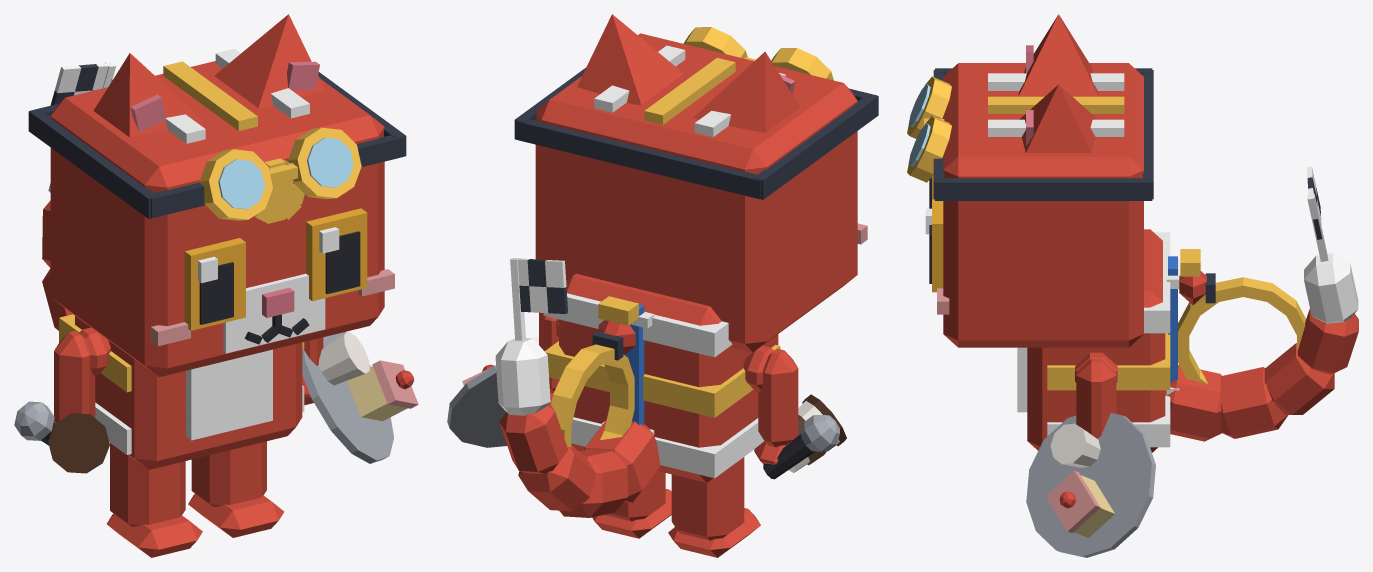
The model's file is CatCafe_Cat_Coaster_Work.glb.
3 renders of one model, left to right at view 1: azimuth 30°, elevation 25°; view 2: azimuth 150°, elevation 25°; view 3: azimuth 270°, elevation 25°, orthographic. The views are drawn at different scales.
Visible parts, largest first — view 1: CatCafe_Cat_Coaster_Work_Head, CatCafe_Cat_Coaster_Work_Body, CatCafe_Cat_Coaster_Work_Prop, CatCafe_Cat_Coaster_Work_Held_Waiter, CatCafe_Cat_Coaster_Work_LegB2, CatCafe_Cat_Coaster_Work_LegB1, CatCafe_Cat_Coaster_Work_EarL, CatCafe_Cat_Coaster_Work_Eye2, CatCafe_Cat_Coaster_Work_Eye1, CatCafe_Cat_Coaster_Work_EarR, CatCafe_Cat_Coaster_Work_LegF2, CatCafe_Cat_Coaster_Work_Held_Barista (+4 smaller); view 2: CatCafe_Cat_Coaster_Work_Head, CatCafe_Cat_Coaster_Work_Body, CatCafe_Cat_Coaster_Work_Tail, CatCafe_Cat_Coaster_Work_Prop, CatCafe_Cat_Coaster_Work_LegB2, CatCafe_Cat_Coaster_Work_EarL, CatCafe_Cat_Coaster_Work_Loop_Glow, CatCafe_Cat_Coaster_Work_EarR, CatCafe_Cat_Coaster_Work_LegF2, CatCafe_Cat_Coaster_Work_Prop2, CatCafe_Cat_Coaster_Work_Held_Waiter, CatCafe_Cat_Coaster_Work_Tail_Flag (+4 smaller); view 3: CatCafe_Cat_Coaster_Work_Head, CatCafe_Cat_Coaster_Work_Tail, CatCafe_Cat_Coaster_Work_Held_Waiter, CatCafe_Cat_Coaster_Work_Body, CatCafe_Cat_Coaster_Work_Prop, CatCafe_Cat_Coaster_Work_EarR, CatCafe_Cat_Coaster_Work_EarL, CatCafe_Cat_Coaster_Work_Loop_Glow, CatCafe_Cat_Coaster_Work_Prop2, CatCafe_Cat_Coaster_Work_LegF1, CatCafe_Cat_Coaster_Work_Eye1, CatCafe_Cat_Coaster_Work_Tail_Flag.
Part boxes in pixels (x1,y1,x2,y2): CatCafe_Cat_Coaster_Work_Head: (50, 48, 394, 377); CatCafe_Cat_Coaster_Work_Body: (59, 314, 304, 469); CatCafe_Cat_Coaster_Work_Prop: (28, 72, 406, 220); CatCafe_Cat_Coaster_Work_Held_Waiter: (302, 331, 418, 463); CatCafe_Cat_Coaster_Work_LegB2: (107, 443, 202, 557); CatCafe_Cat_Coaster_Work_LegB1: (188, 441, 284, 537); CatCafe_Cat_Coaster_Work_EarL: (214, 14, 324, 108); CatCafe_Cat_Coaster_Work_Eye2: (184, 238, 245, 330); CatCafe_Cat_Coaster_Work_Eye1: (306, 208, 367, 301); CatCafe_Cat_Coaster_Work_EarR: (93, 53, 204, 137); CatCafe_Cat_Coaster_Work_LegF2: (54, 331, 95, 422); CatCafe_Cat_Coaster_Work_Held_Barista: (48, 413, 109, 473); CatCafe_Cat_Coaster_Work_Head: (535, 33, 867, 352); CatCafe_Cat_Coaster_Work_Body: (543, 273, 780, 482); CatCafe_Cat_Coaster_Work_Tail: (495, 338, 660, 517); CatCafe_Cat_Coaster_Work_Prop: (514, 27, 878, 199); CatCafe_Cat_Coaster_Work_LegB2: (668, 457, 760, 557); CatCafe_Cat_Coaster_Work_EarL: (577, 14, 683, 104); CatCafe_Cat_Coaster_Work_Loop_Glow: (551, 344, 634, 447); CatCafe_Cat_Coaster_Work_EarR: (693, 51, 800, 132); CatCafe_Cat_Coaster_Work_LegF2: (754, 348, 798, 464); CatCafe_Cat_Coaster_Work_Prop2: (592, 296, 654, 435); CatCafe_Cat_Coaster_Work_Held_Waiter: (447, 336, 538, 447); CatCafe_Cat_Coaster_Work_Tail_Flag: (510, 258, 568, 340); CatCafe_Cat_Coaster_Work_Head: (932, 63, 1143, 347); CatCafe_Cat_Coaster_Work_Tail: (1165, 253, 1358, 441); CatCafe_Cat_Coaster_Work_Held_Waiter: (1026, 413, 1155, 557); CatCafe_Cat_Coaster_Work_Body: (1017, 229, 1170, 452); CatCafe_Cat_Coaster_Work_Prop: (907, 68, 1153, 200); CatCafe_Cat_Coaster_Work_EarR: (1018, 14, 1098, 96); CatCafe_Cat_Coaster_Work_EarL: (1019, 84, 1097, 152); CatCafe_Cat_Coaster_Work_Loop_Glow: (1178, 277, 1305, 383); CatCafe_Cat_Coaster_Work_Prop2: (1166, 249, 1215, 395); CatCafe_Cat_Coaster_Work_LegF1: (1076, 359, 1116, 438); CatCafe_Cat_Coaster_Work_Eye1: (925, 199, 943, 292); CatCafe_Cat_Coaster_Work_Tail_Flag: (1307, 166, 1328, 261).
Size of the model in its own units: 1.84 by 2.31 by 2.05.
1 material, 1 textured.
